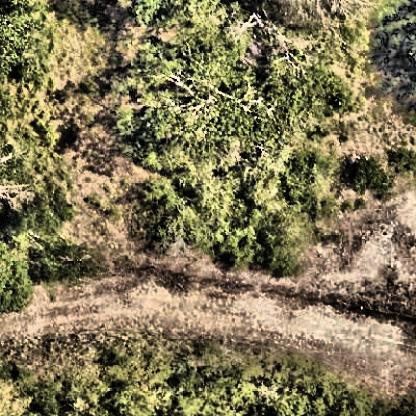tree-top: (140, 43, 252, 158), (137, 166, 229, 251), (262, 60, 348, 127), (0, 222, 49, 314), (0, 1, 55, 71), (281, 156, 341, 218), (266, 208, 313, 275), (42, 233, 96, 286), (216, 224, 264, 271), (170, 0, 219, 42), (350, 154, 390, 204), (25, 185, 68, 224), (129, 0, 163, 28)
